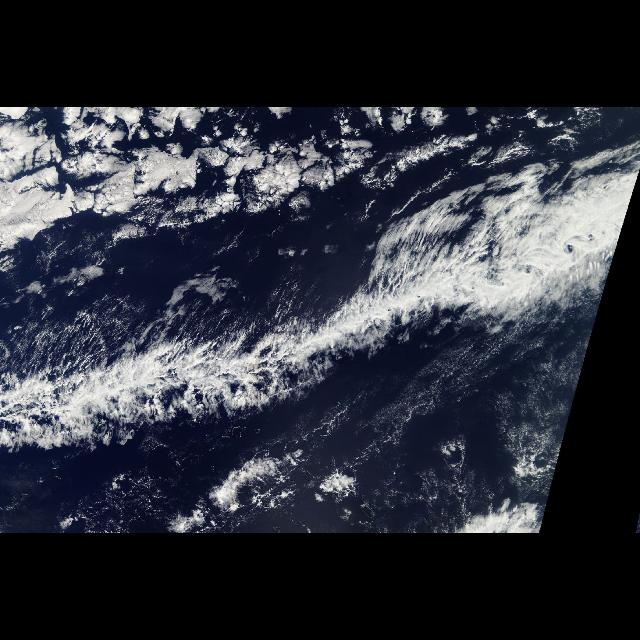Fish: (4, 175, 606, 479)
Flower: (12, 111, 364, 235)
Sugar: (355, 350, 563, 486)
